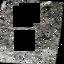Purslane: (0, 0, 64, 50)
